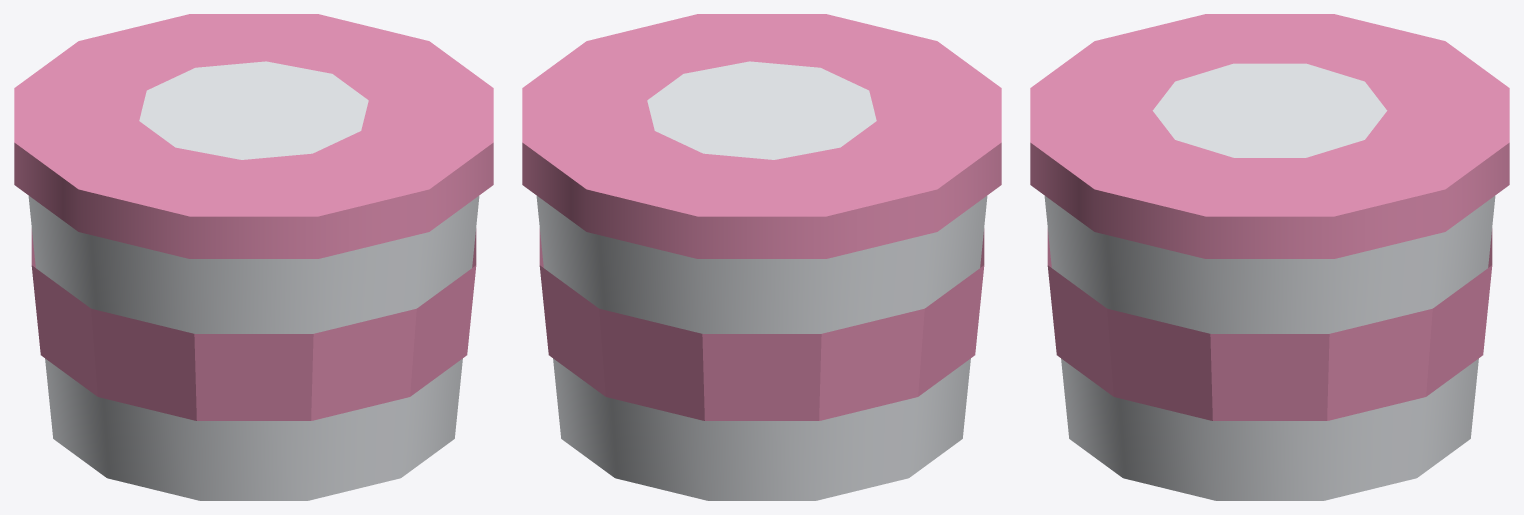
The model's file is CM_Product_IceCreamTub.fbx.
3 renders of one model, left to right at view 1: azimuth 30°, elevation 25°; view 2: azimuth 150°, elevation 25°; view 3: azimuth 270°, elevation 25°, orthographic.
Visible parts, largest first — view 1: IceCreamTub; view 2: IceCreamTub; view 3: IceCreamTub.
Part boxes in pixels (bbox=[...]): IceCreamTub: bbox=[14, 14, 493, 500]; IceCreamTub: bbox=[522, 14, 1001, 500]; IceCreamTub: bbox=[1030, 14, 1509, 500].
Bounding box in the file's own units: 1.43 × 1.43 × 1.
1 material, 1 textured.
